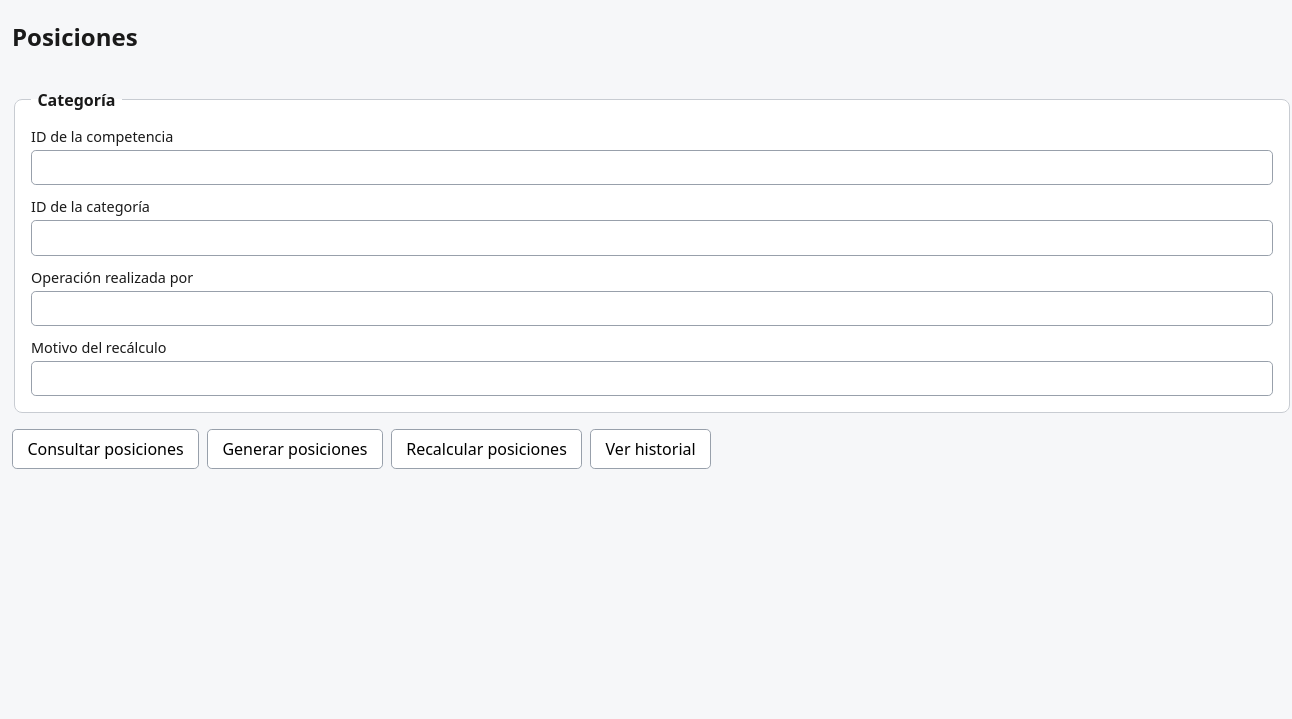
StandingsPage › lists the pending runs that do not score
Type "COMPETITION-1" into the field labelled "ID de la competencia" at (652, 168), box [31,150,1273,185]
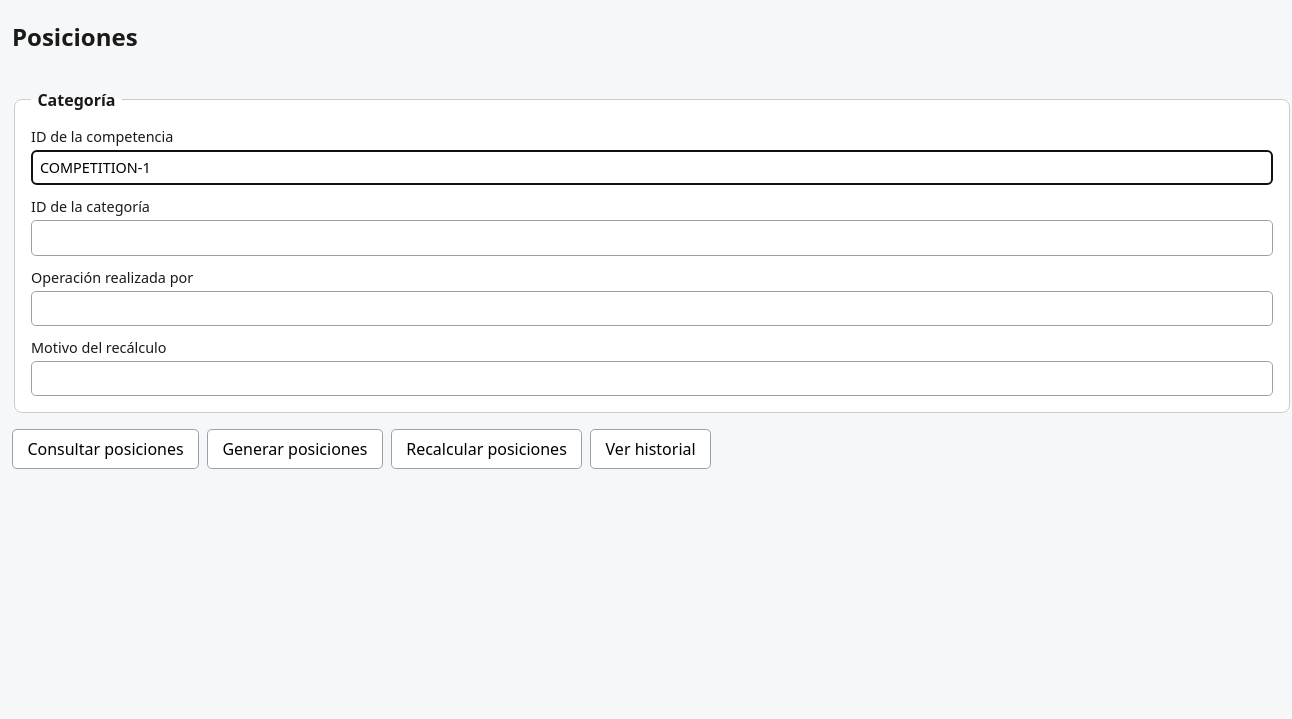
Type "CATEGORY-1" into the field labelled "ID de la categoría" at (652, 238), box [31,220,1273,256]
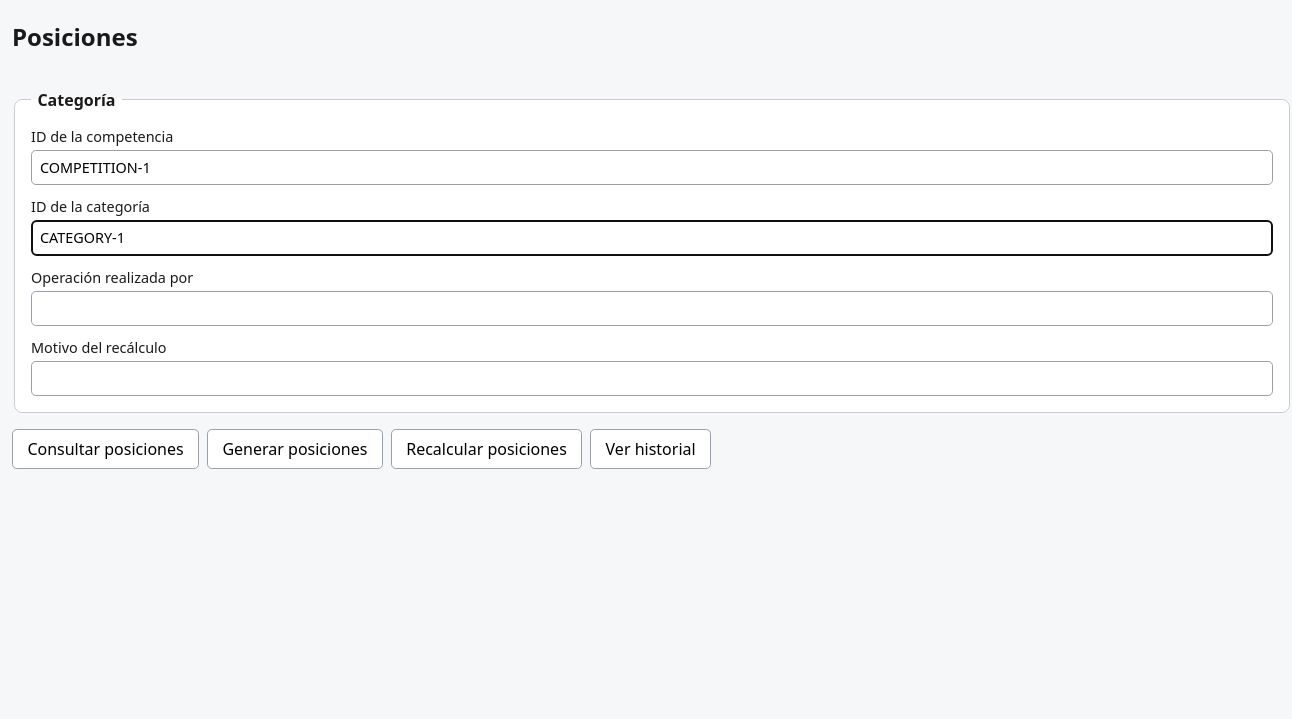
Click the button "Consultar posiciones" at (106, 449), box [12,429,199,469]
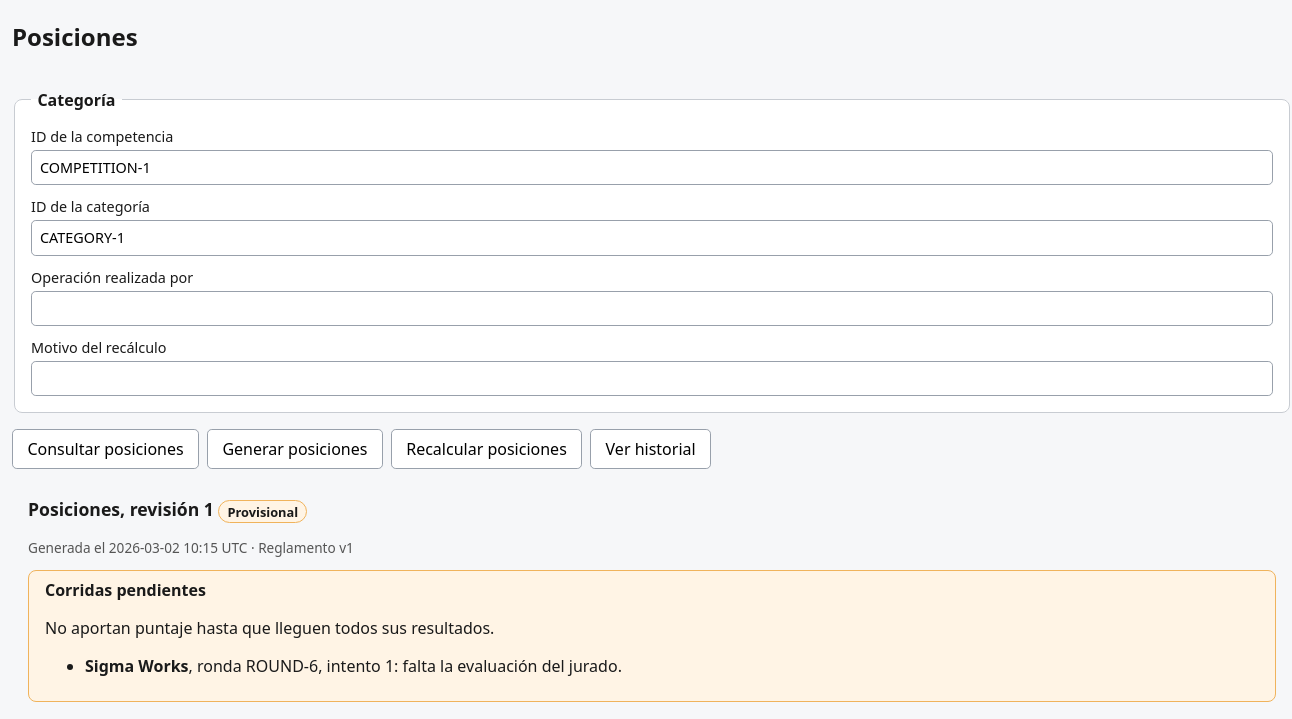
Check: the element "Corridas pendientes" shows "Sigma Works", box [85,655,189,677]
Check: the element "Corridas pendientes" shows "ROUND-6", box [246,655,318,677]
Check: the element "Corridas pendientes" shows "falta la evaluación del jurado", box [28,570,1276,702]
